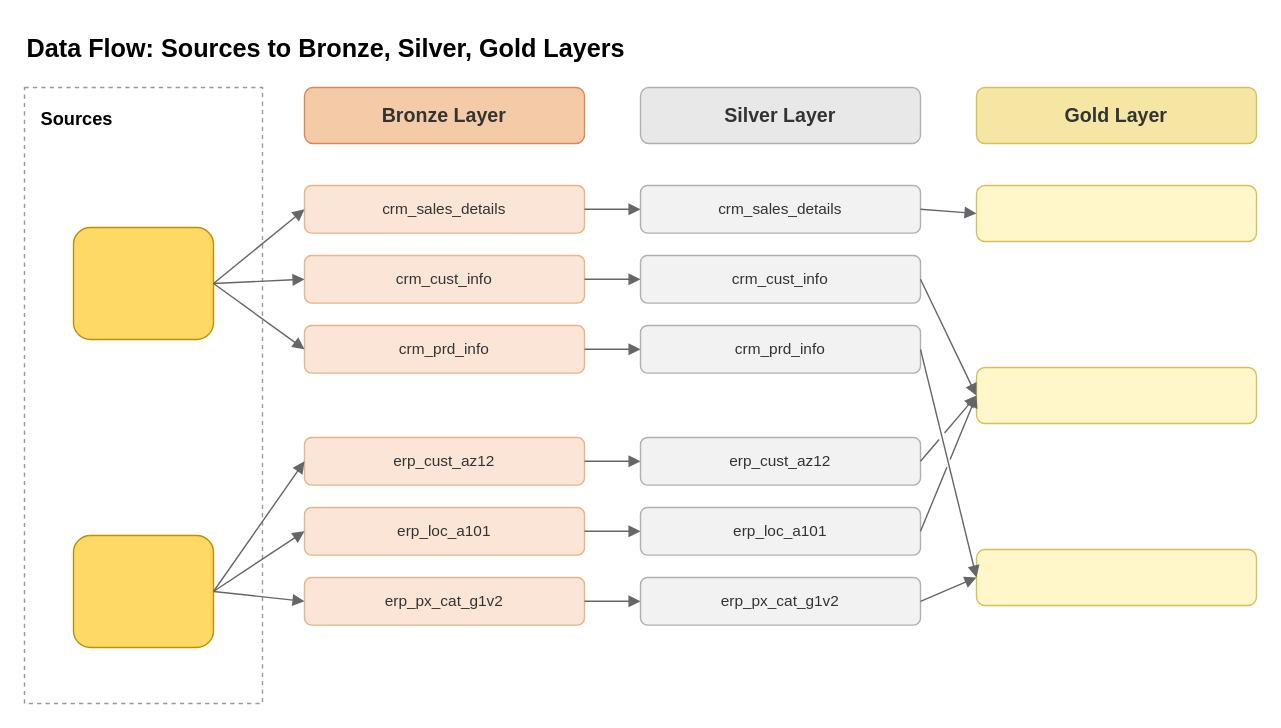
The diagram is 1281 pixels wide and 728 high, and some of its shapes have lost their labels. The centre of each missing label's shape, as x and y in pixels:
"CRM" belongs at point (143, 283).
"dim_customers" belongs at point (1115, 395).
"dim_products" belongs at point (1115, 577).
"ERP" belongs at point (143, 591).
"fact_sales" belongs at point (1115, 212).
